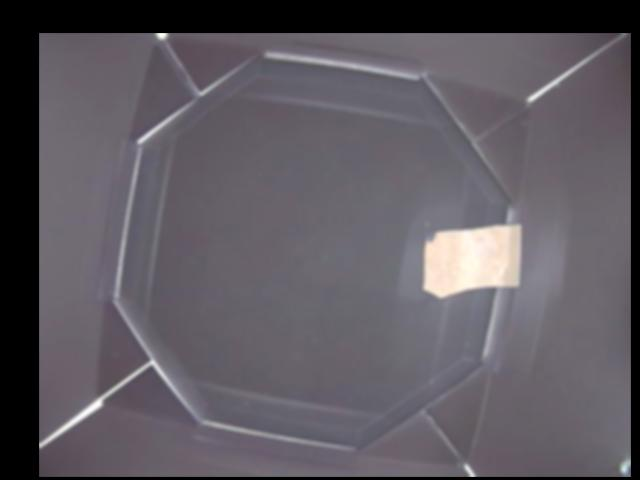China: (423, 223, 523, 300)
